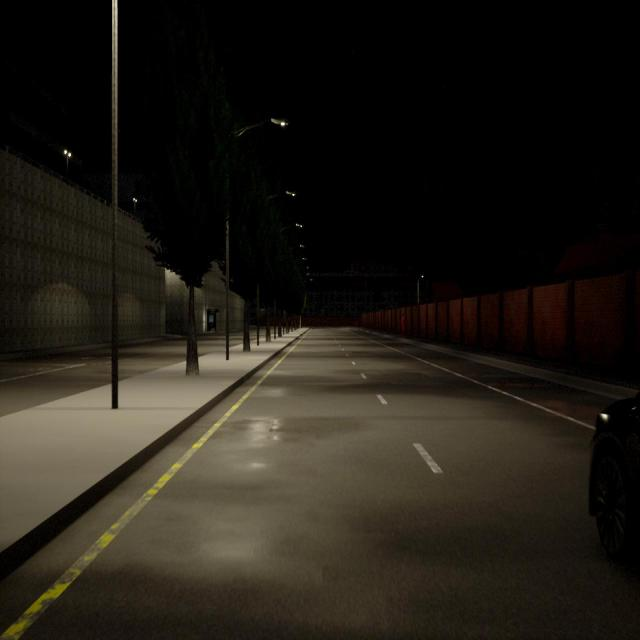Pedestrian: (401, 312, 405, 338)
Vehicle: (590, 396, 640, 555)
